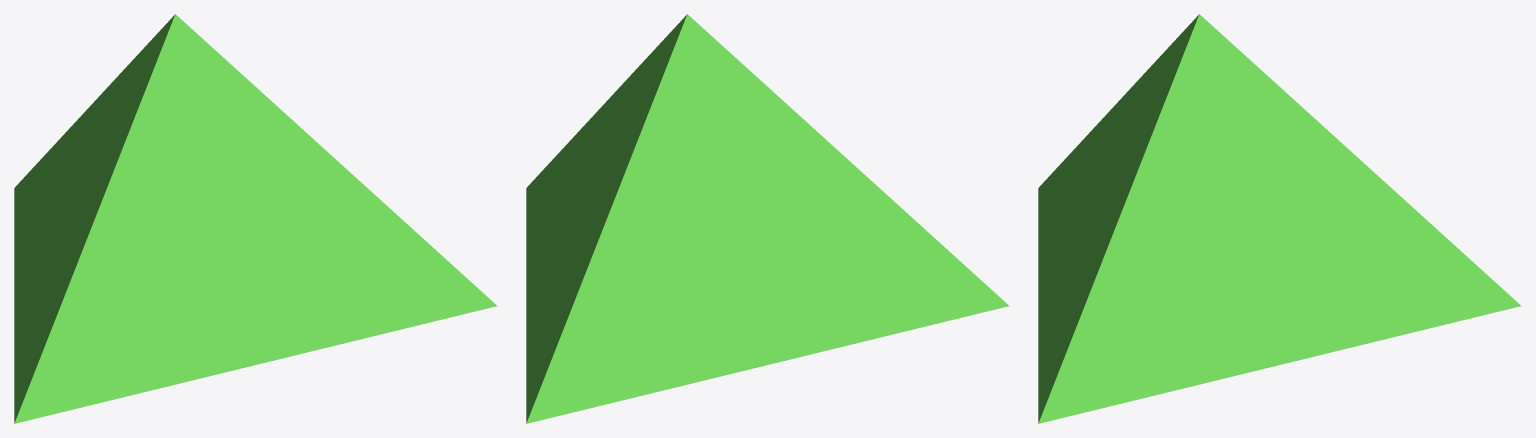
The model's file is blade_of_grass_1.fbx.
3 views of the same model, side by side, from view 1: azimuth 30°, elevation 25°; view 2: azimuth 150°, elevation 25°; view 3: azimuth 270°, elevation 25° (orthographic).
Parts seen in each view (by area): view 1: blade_of_grass_1; view 2: blade_of_grass_1; view 3: blade_of_grass_1.
Boxes of the visible parts, x1,y1,x2,y2 form: blade_of_grass_1: [14, 14, 496, 423]; blade_of_grass_1: [526, 14, 1008, 423]; blade_of_grass_1: [1038, 14, 1520, 423].
Bounding box in the file's own units: 173 × 100 × 150.
